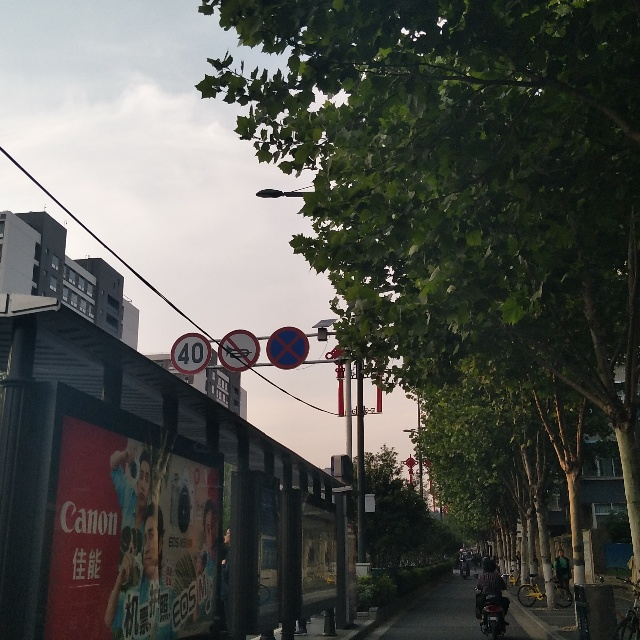nohonk: (223, 334, 257, 366)
stop: (273, 327, 306, 368)
